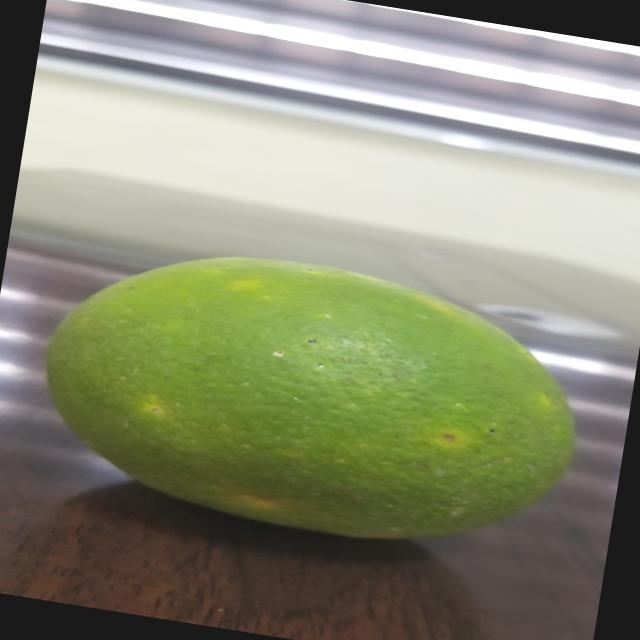agrume: (0, 215, 594, 562)
